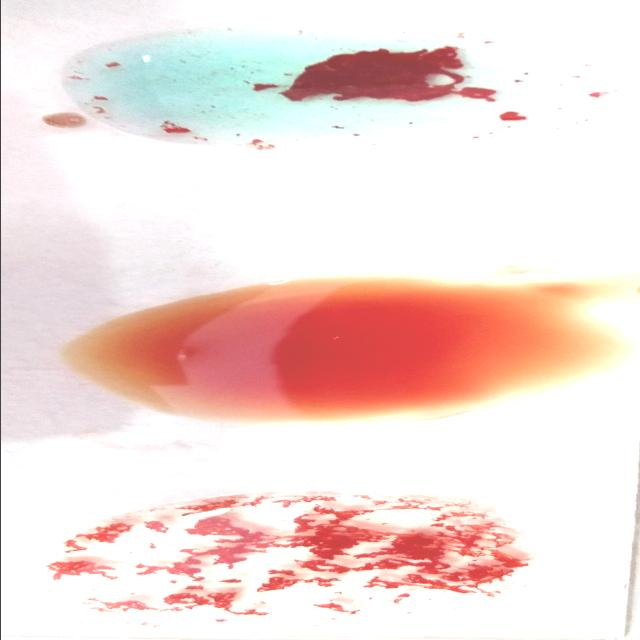A: (58, 20, 597, 148)
D: (29, 493, 565, 630)
